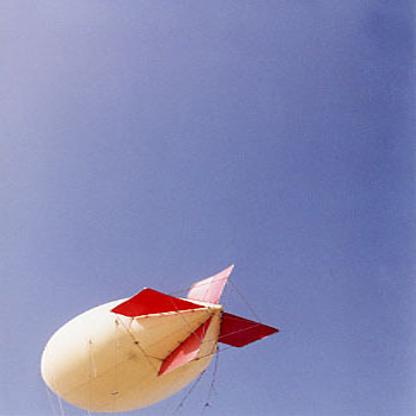Airship: (39, 265, 281, 415)
